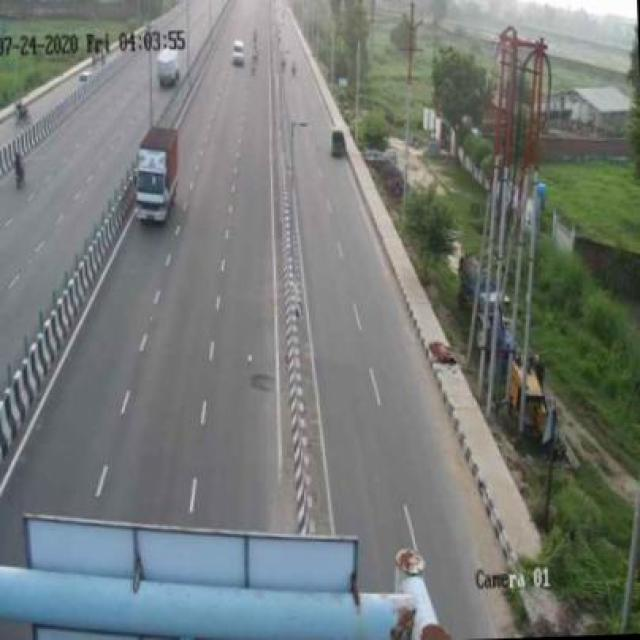car: (231, 35, 249, 66)
